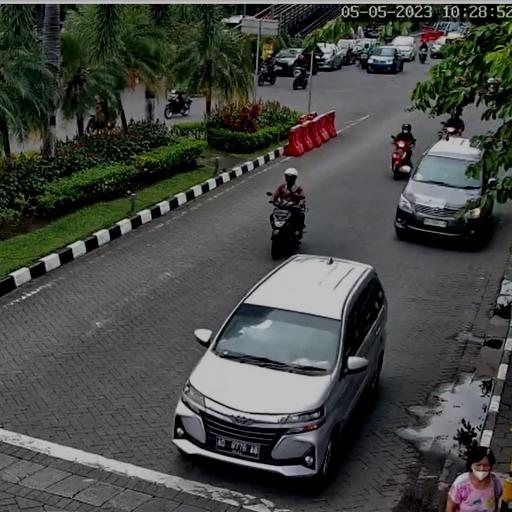mobil: (177, 256, 388, 483), (396, 135, 499, 247)
motor: (266, 186, 308, 257), (390, 134, 416, 185)
